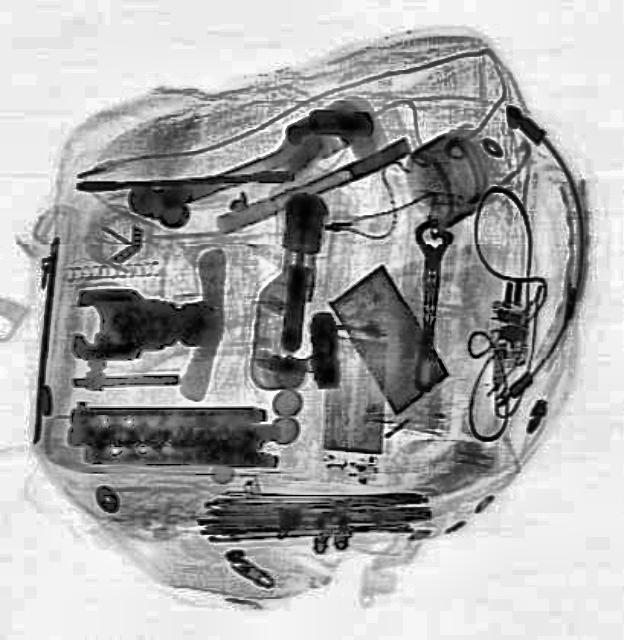Wrench: (404, 217, 454, 391)
